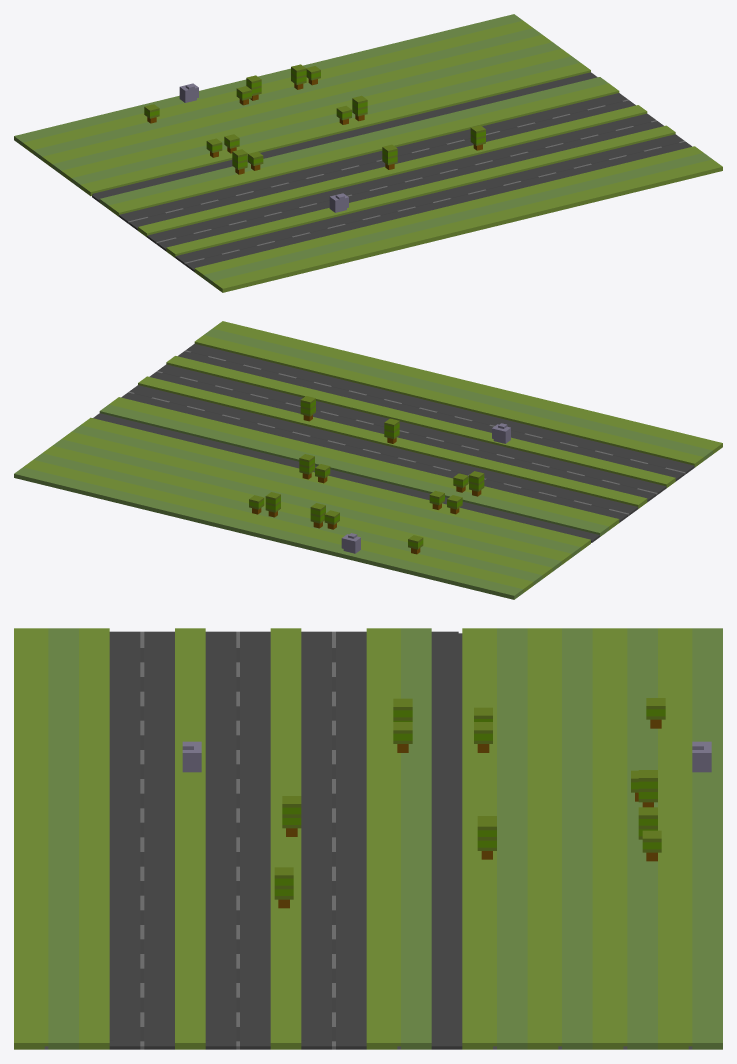
The model's file is CrossyRoadLevel.vox.obj.
3 renders of one model, top to bottom at view 1: azimuth 30°, elevation 25°; view 2: azimuth 150°, elevation 25°; view 3: azimuth 270°, elevation 25°, orthographic. The views are drawn at different scales.
Bounding box in the file's own units: 25.6 × 1.2 × 18.5.
1 material, 1 textured.
